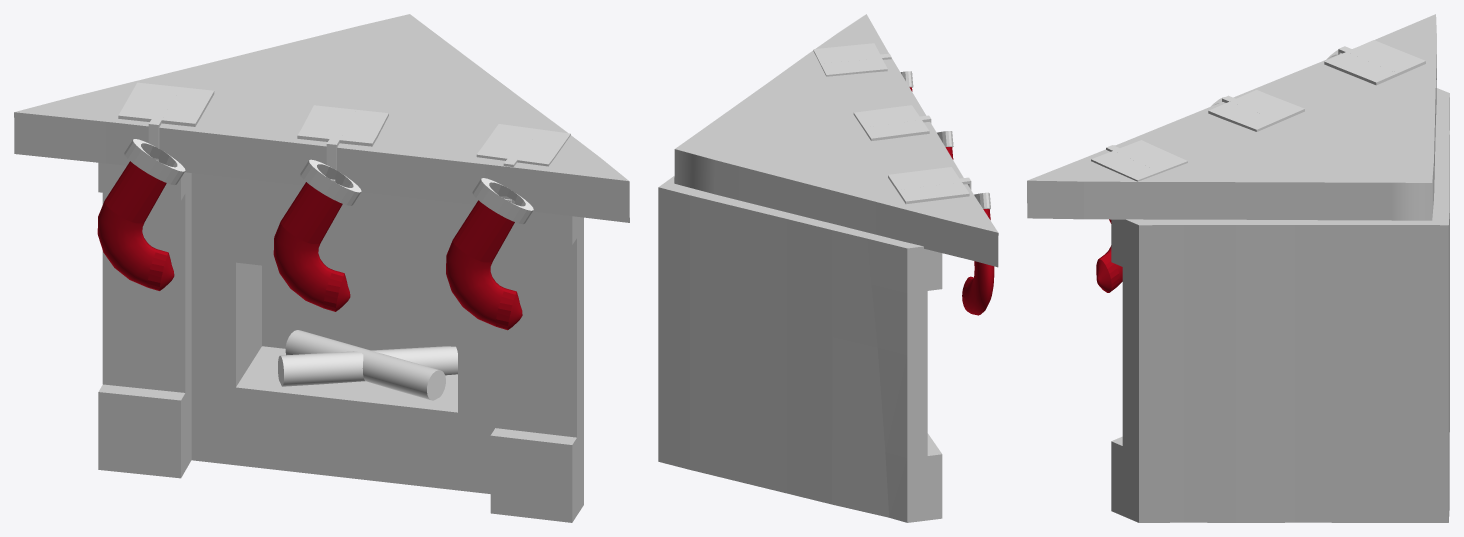
The model's file is fireplace.fbx.
3 renders of one model, left to right at view 1: azimuth 30°, elevation 25°; view 2: azimuth 150°, elevation 25°; view 3: azimuth 270°, elevation 25°, orthographic. The views are drawn at different scales.
Visible parts, largest first — view 1: body, mantle, wood, middleStocking, leftStocking, rightStocking, hookStocking01, hookStocking02, hookStocking03; view 2: body, mantle, hookStocking01, hookStocking02, hookStocking03, leftStocking; view 3: body, mantle, hookStocking01, hookStocking02, hookStocking03, rightStocking.
Part boxes in pixels (x1,y1,x2,y2): body: (98, 162, 583, 522); mantle: (14, 14, 629, 222); wood: (278, 330, 457, 400); middleStocking: (273, 159, 361, 311); leftStocking: (97, 139, 185, 290); rightStocking: (446, 178, 533, 330); hookStocking01: (118, 82, 214, 161); hookStocking02: (297, 105, 388, 181); hookStocking03: (476, 124, 570, 202); body: (658, 176, 942, 522); mantle: (674, 14, 998, 267); hookStocking01: (888, 167, 971, 204); hookStocking02: (853, 105, 931, 140); hookStocking03: (813, 43, 891, 76); leftStocking: (962, 192, 994, 315); body: (1111, 88, 1449, 522); mantle: (1027, 14, 1436, 220); hookStocking01: (1324, 40, 1425, 85); hookStocking02: (1208, 90, 1304, 131); hookStocking03: (1091, 140, 1187, 181); rightStocking: (1096, 145, 1122, 292).
Bounding box in the file's own units: 5.08 × 4.5 × 5.13.
